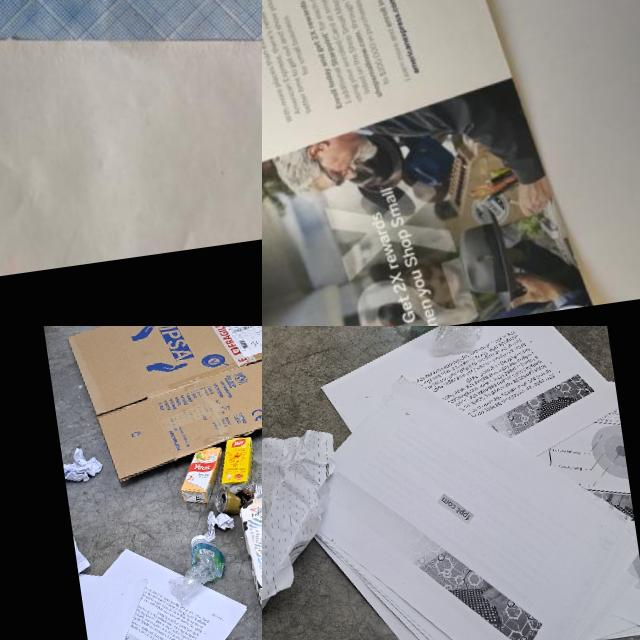aba de lata: (216, 494, 227, 509)
caixinha: (178, 444, 228, 506), (239, 495, 262, 611), (216, 436, 257, 486)
garrafa plástica: (163, 530, 230, 603), (392, 326, 487, 360)
lata: (213, 481, 262, 517)
papel: (278, 326, 640, 640), (262, 0, 593, 326), (0, 0, 262, 306), (262, 421, 365, 640), (75, 532, 262, 640), (62, 444, 105, 484), (203, 508, 237, 542), (71, 518, 91, 574)
papelão: (66, 326, 262, 483)
tampa plástica: (190, 534, 210, 548)
